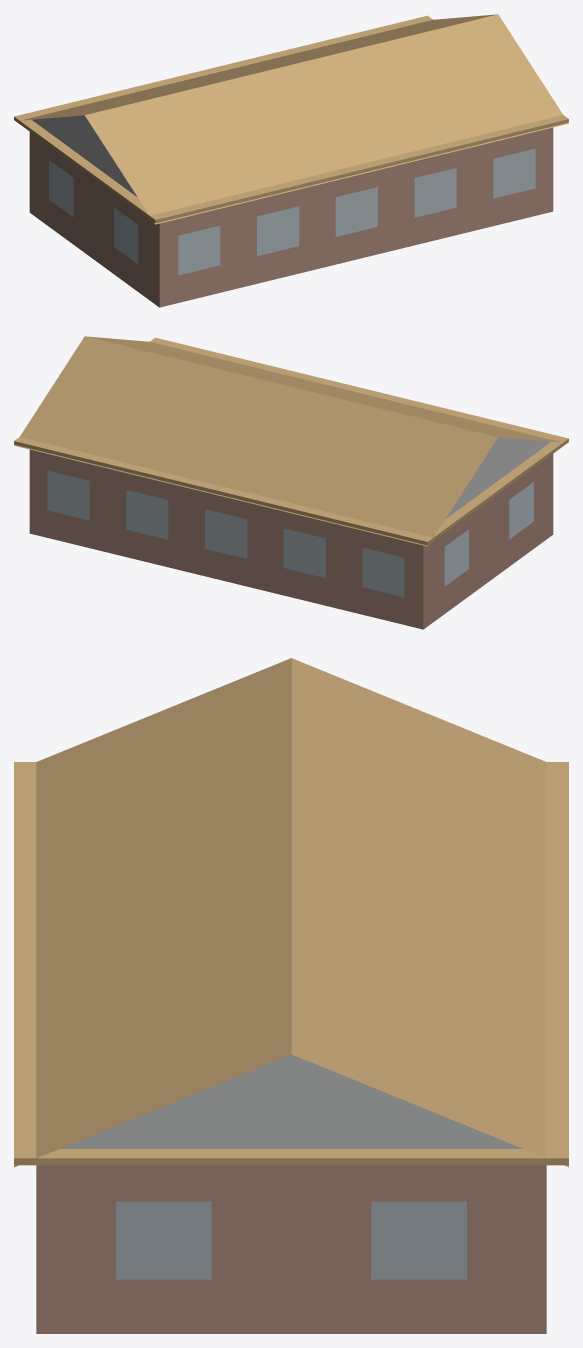
Rendered from 10_traditional_houses-01.glb.
The picture shows the model from 3 angles, top to bottom: view 1: azimuth 30°, elevation 25°; view 2: azimuth 150°, elevation 25°; view 3: azimuth 270°, elevation 25°; orthographic projection. The views are drawn at different scales.
Bounding box in the file's own units: 14.7 × 5 × 8.7.
